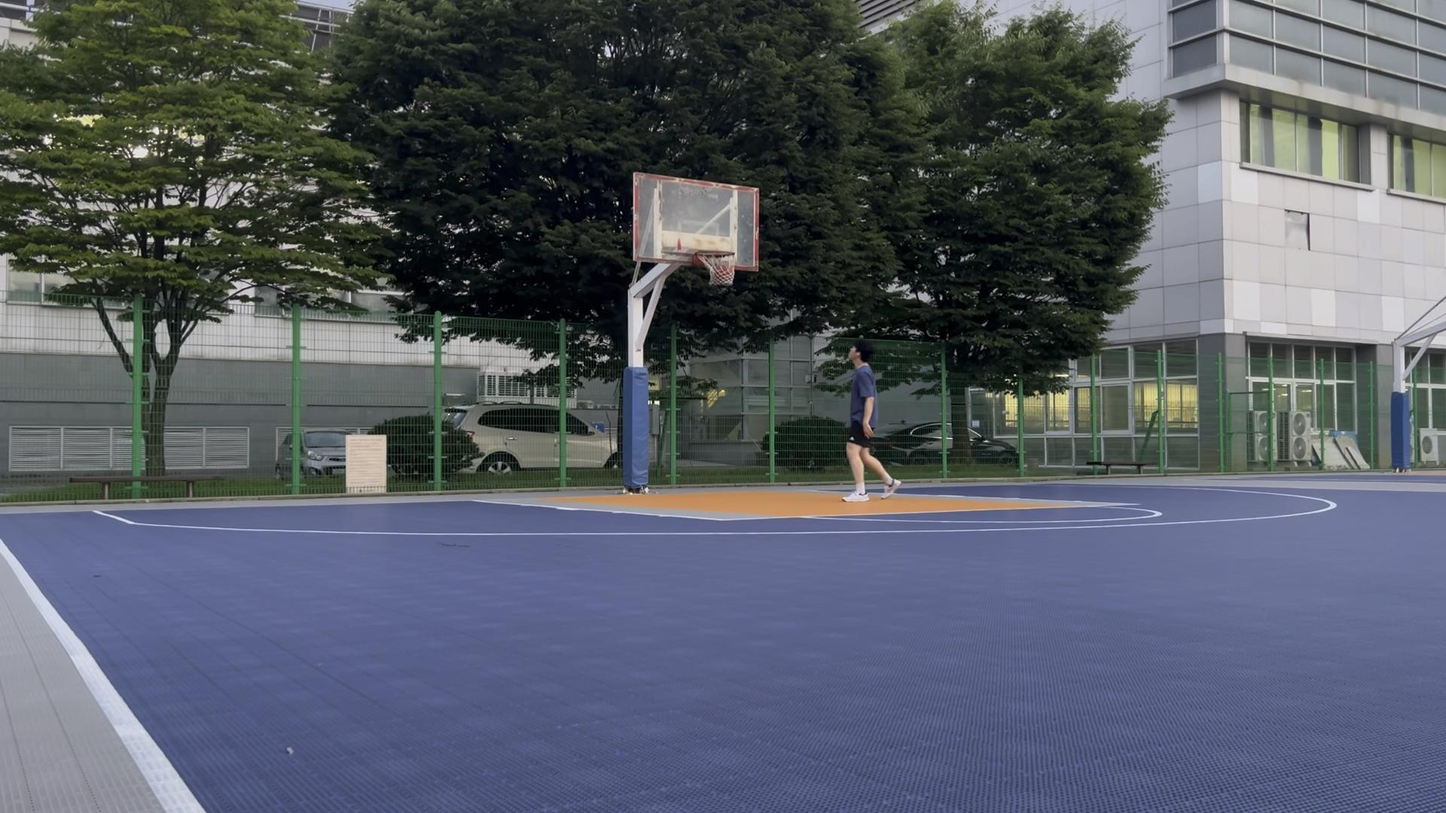ball: (711, 263, 734, 286)
human: (841, 337, 902, 503)
rim: (695, 248, 737, 287)
